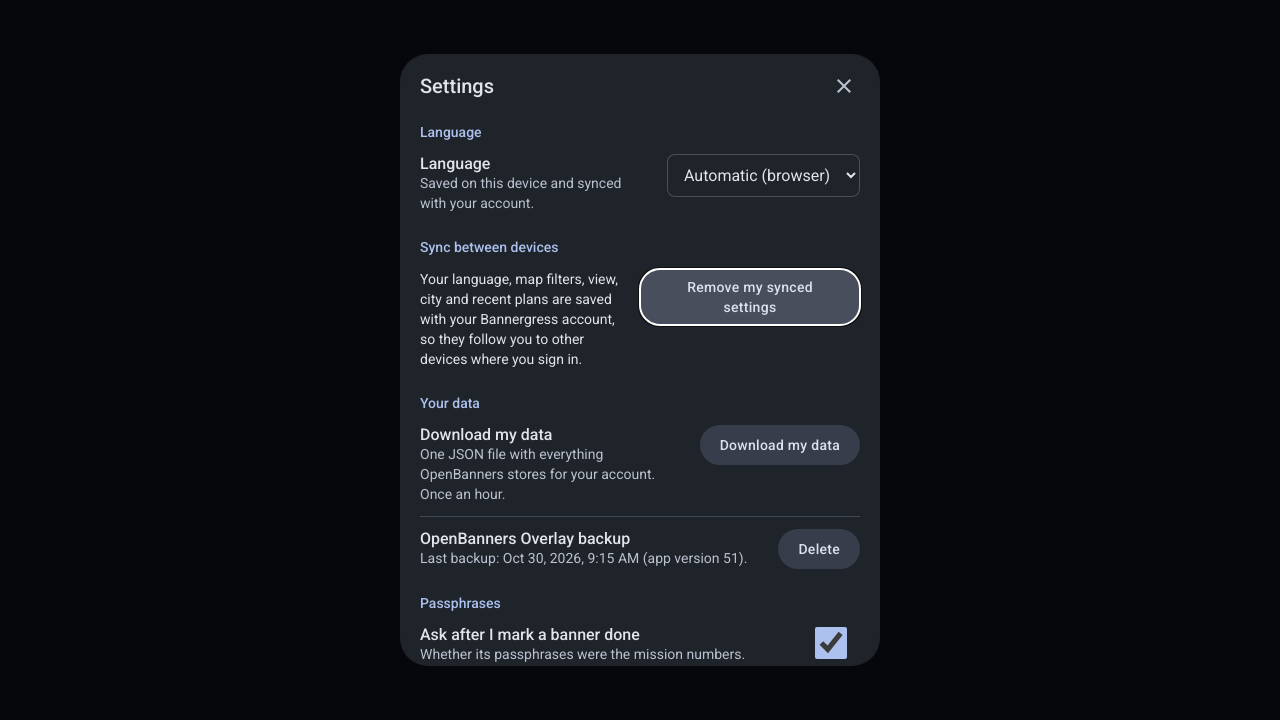
Scenario: settings › shows the Overlay backup's date and deletes it after confirming
Expected: the text "Last backup: Oct 30, 2026, 9:15 AM (app version 51)." is shown, x1=420 y1=550 x2=747 y2=566
Click the button "Delete": (819, 549) x1=778 y1=529 x2=860 y2=569
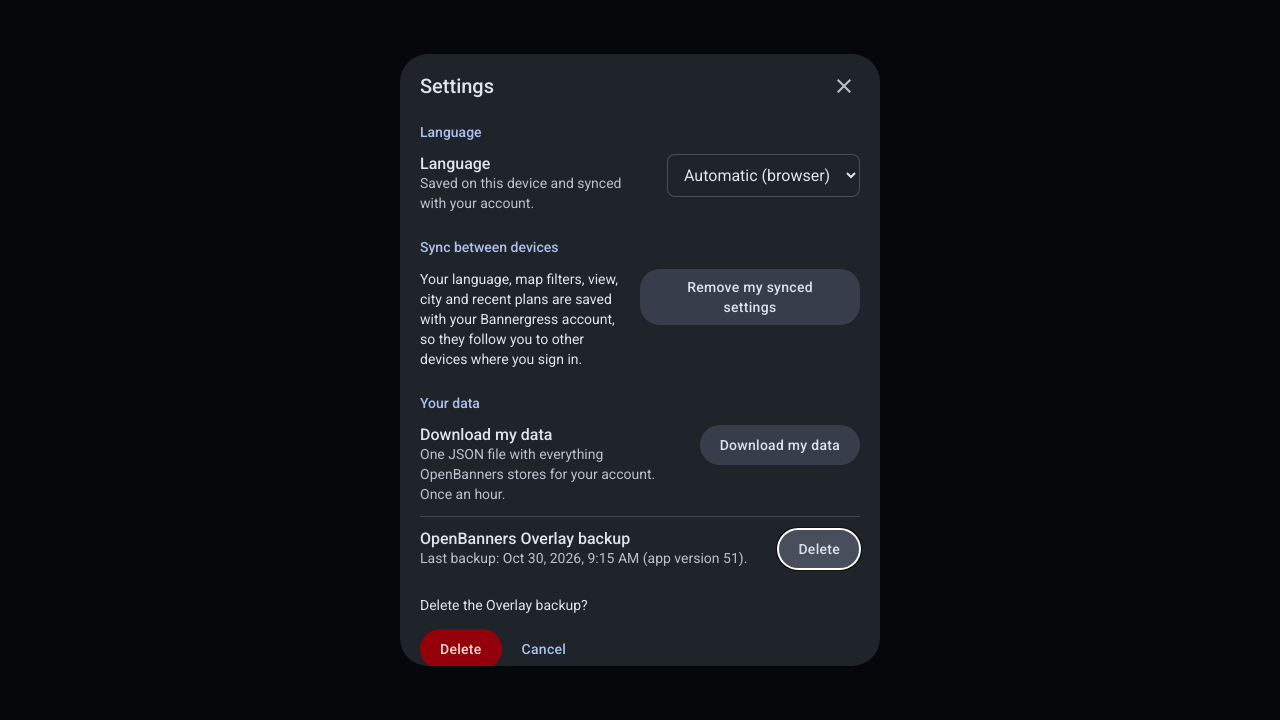
Click the button "Delete" below "Delete the Overlay backup?": (461, 649) x1=420 y1=629 x2=502 y2=669
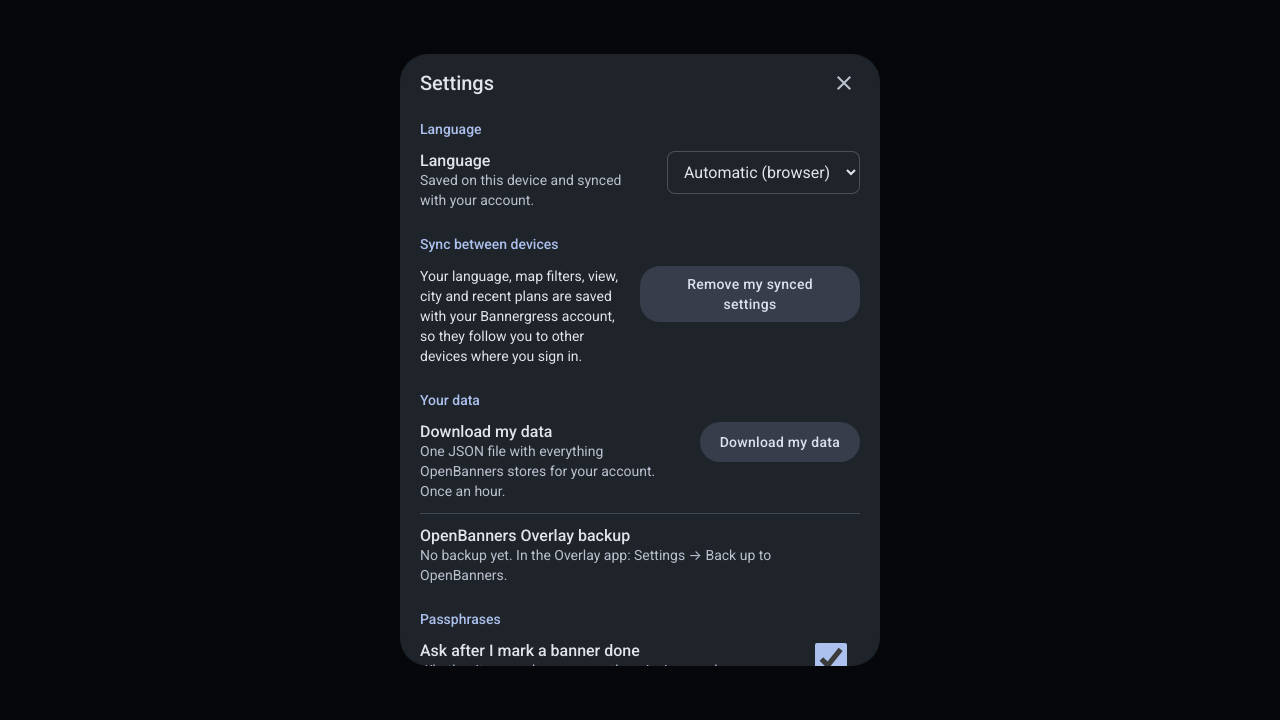
Now the text "No backup yet" is shown, box x1=420 y1=547 x2=771 y2=583
